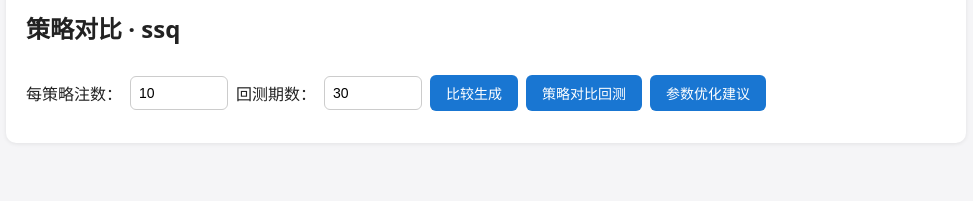
Test: Compare › 未选择策略时报错
Click the button "比较生成": [474, 93] box [430,75,518,111]
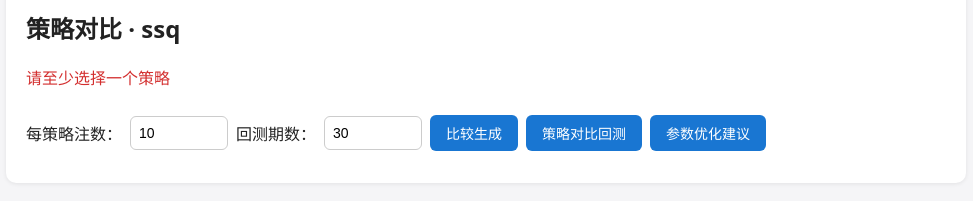
Check: the text "请至少选择一个策略" is shown, box [26,67,170,89]
